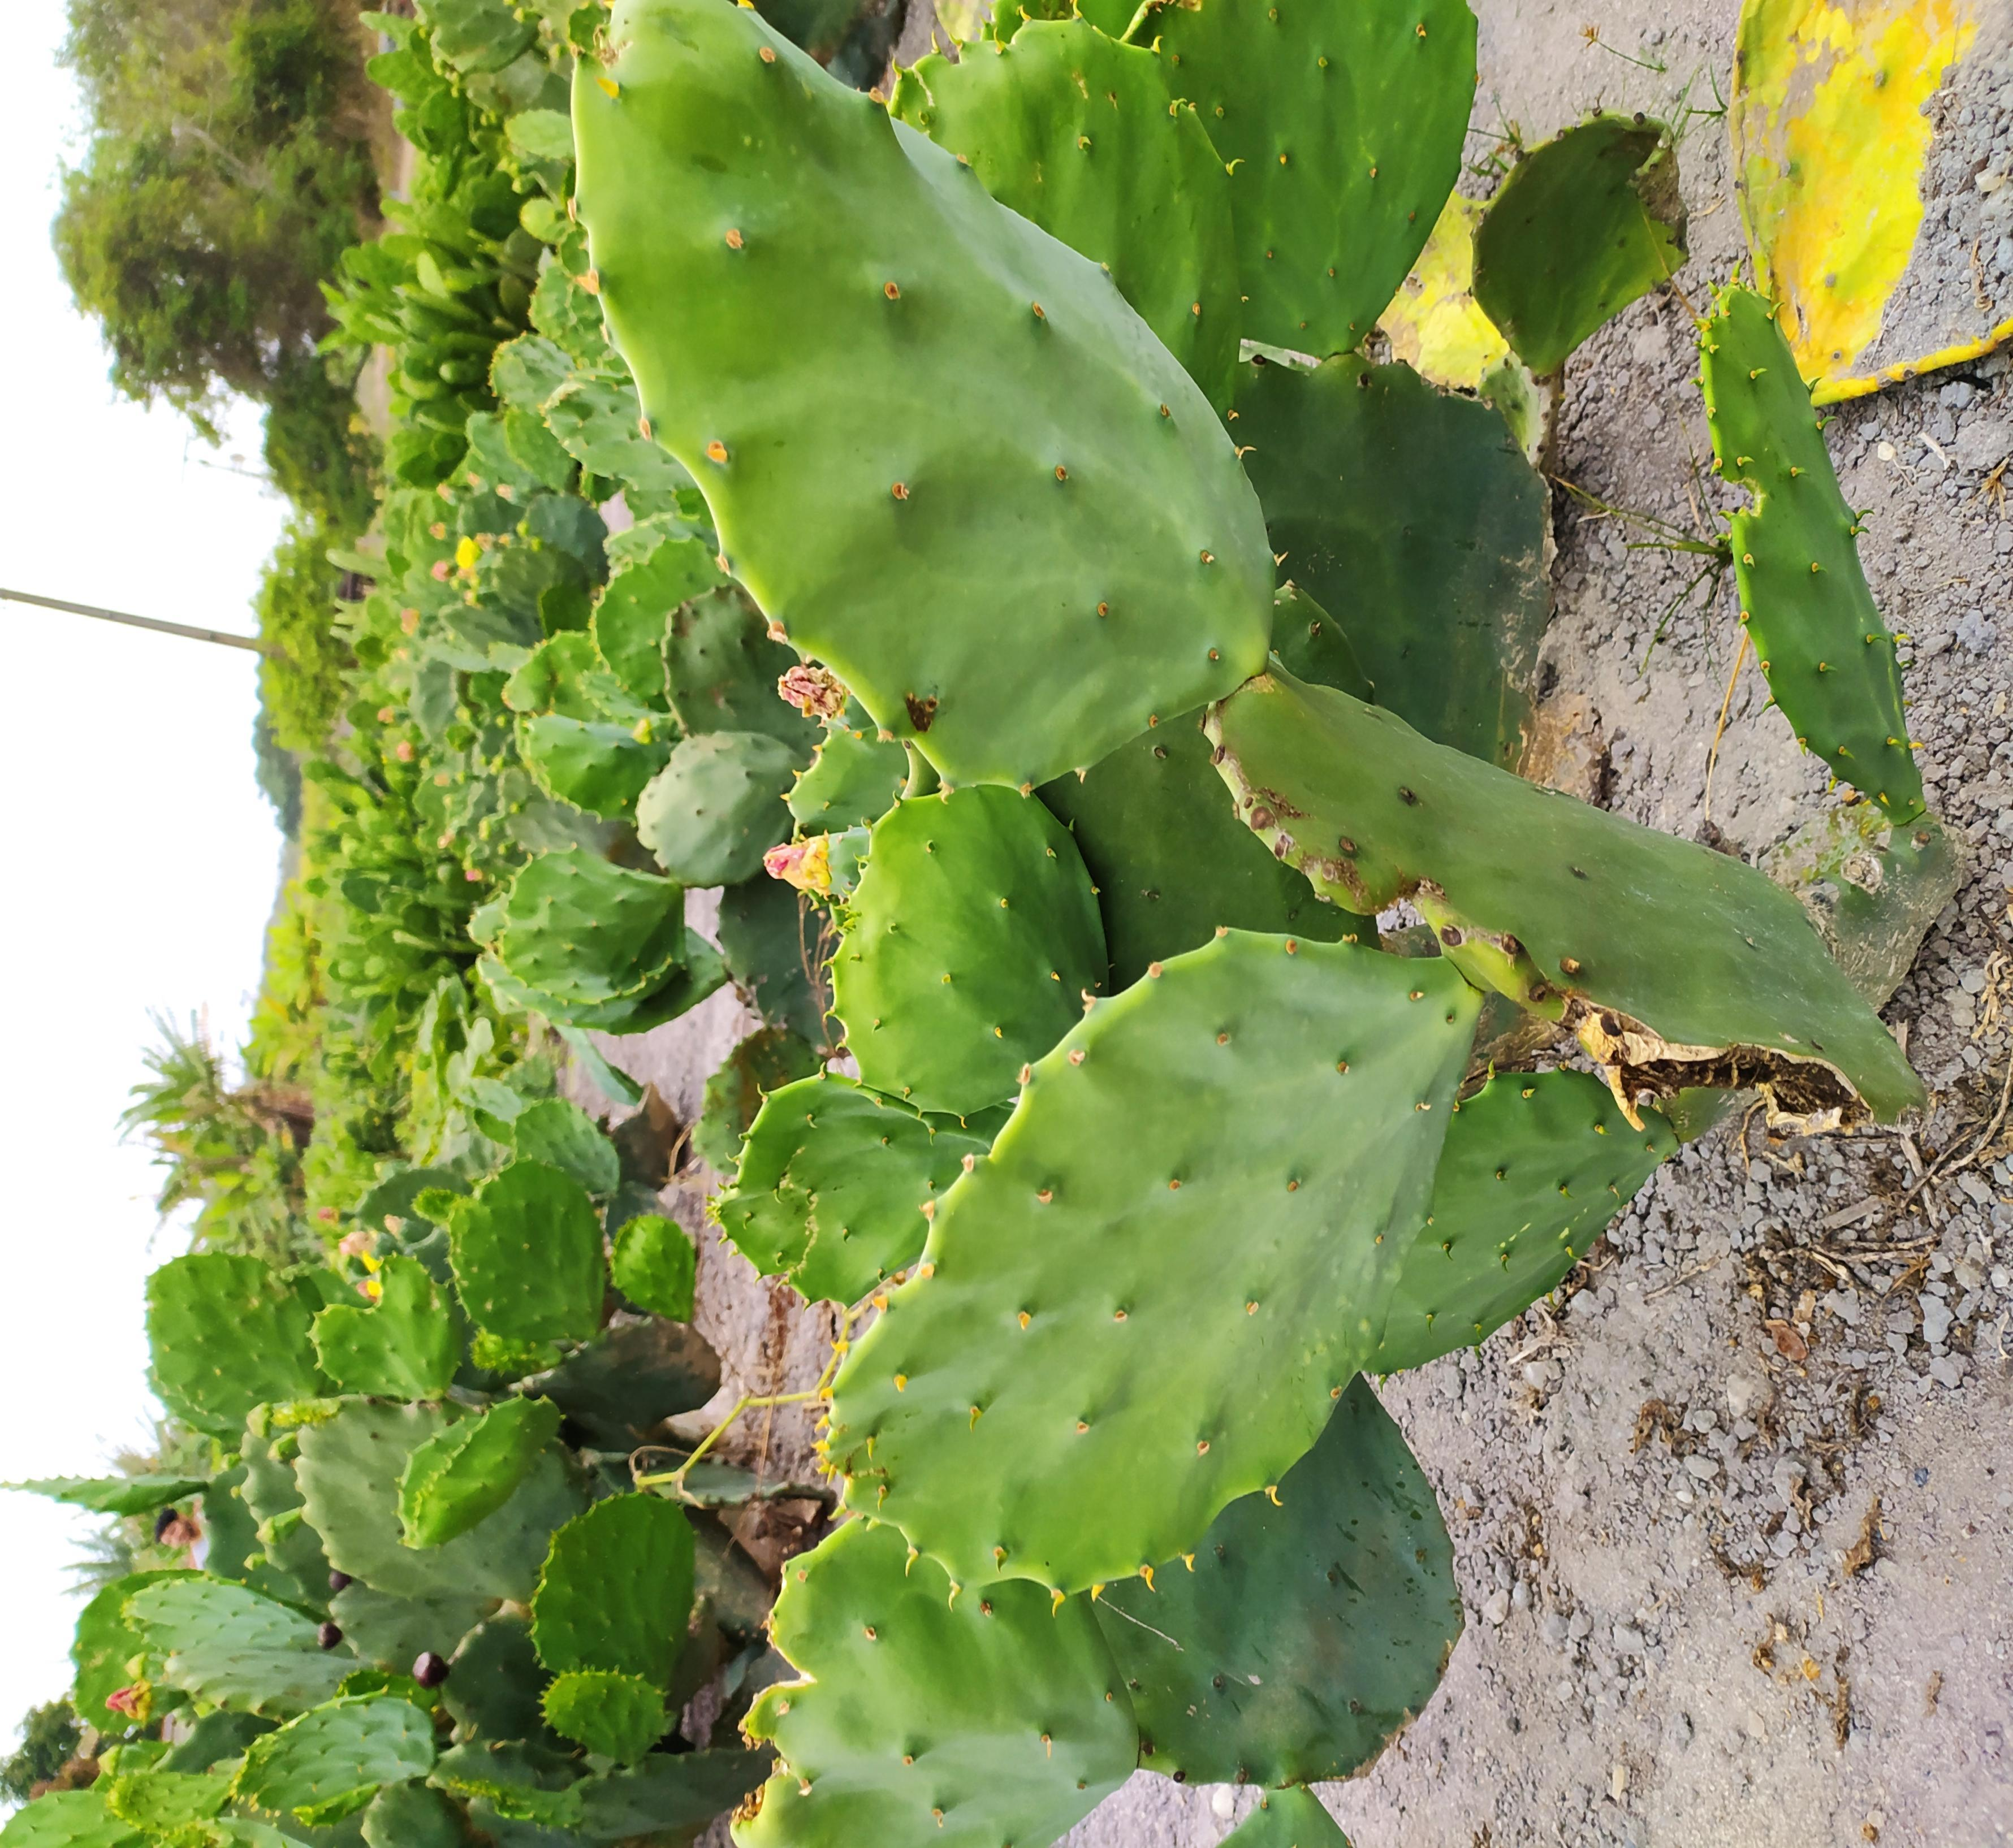impropria: (1215, 655, 1942, 1119), (1702, 312, 1986, 867), (1078, 1382, 1453, 1772), (745, 1546, 1176, 1848), (722, 1069, 991, 1303), (1481, 110, 1679, 389), (416, 1392, 563, 1550), (529, 1679, 694, 1778)
propria: (611, 13, 1264, 789), (791, 962, 1485, 1596), (764, 776, 1160, 1129), (1139, 1, 1431, 338), (124, 1590, 450, 1810), (416, 1184, 642, 1358), (516, 1499, 722, 1685), (139, 1241, 325, 1439)
